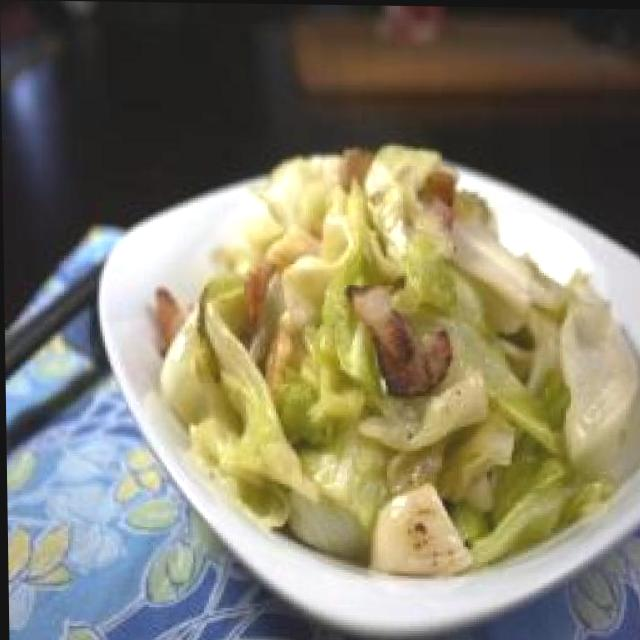chinese_cabbage: (202, 180, 596, 550)
